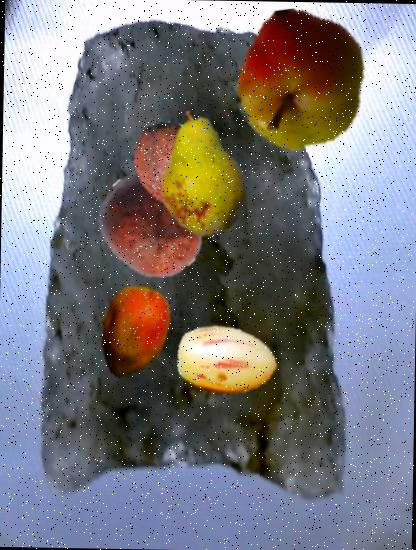Apple: (229, 6, 372, 151)
Cocos: (124, 118, 215, 209)
Nut: (95, 168, 208, 281)
Papaya: (82, 280, 184, 383)
Pear: (134, 108, 270, 243)
Pepino: (174, 310, 278, 413)
